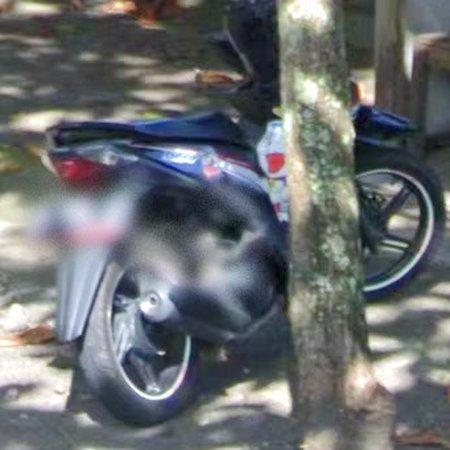motorcycles: (44, 93, 288, 424), (353, 106, 446, 297)
